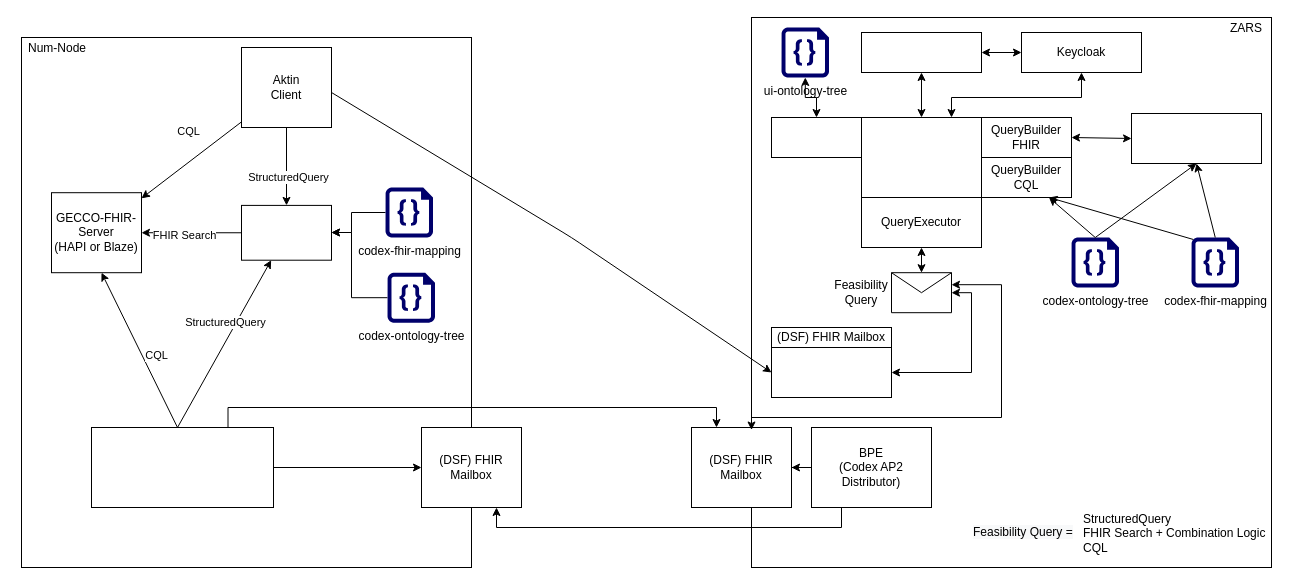
Some shapes in this 1289 by 585 pixel diagram are drawn without their labels. Each missing label, with the box of its shape:
(DSF) BPE: (90, 426, 274, 508)
Aktin Broker: (770, 346, 892, 398)
Feasibility UI: (860, 32, 982, 72)
FLARE: (240, 204, 332, 260)
FLARE (FHIR Query Translate): (1130, 112, 1262, 164)
Terminology Service: (770, 116, 862, 158)
UI-Backend: (860, 116, 982, 198)
